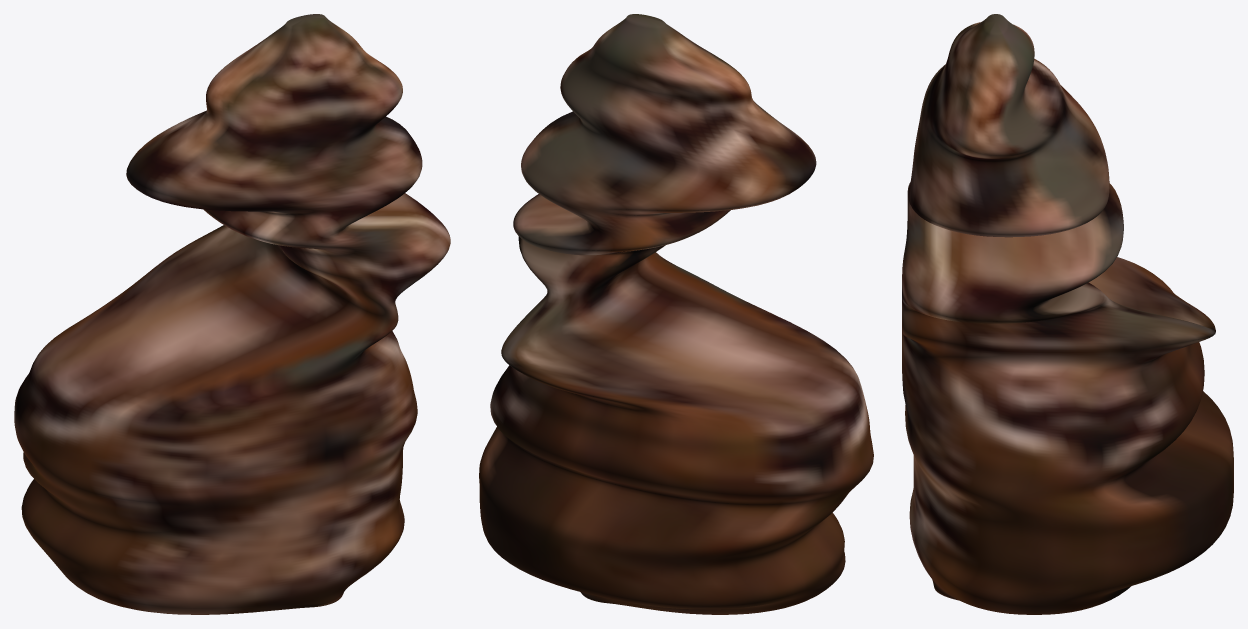
3 renders of one model, left to right at view 1: azimuth 30°, elevation 25°; view 2: azimuth 150°, elevation 25°; view 3: azimuth 270°, elevation 25°, orthographic. The views are drawn at different scales.
Parts seen in each view (by area): view 1: hull-J3; view 2: hull-J3; view 3: hull-J3.
Part boxes in pixels (box(x1,y1,x2,y2)): hull-J3: box(14, 14, 450, 614); hull-J3: box(479, 14, 873, 614); hull-J3: box(902, 14, 1233, 614).
Bounding box in the file's own units: 1.8 × 2.6 × 1.37.
